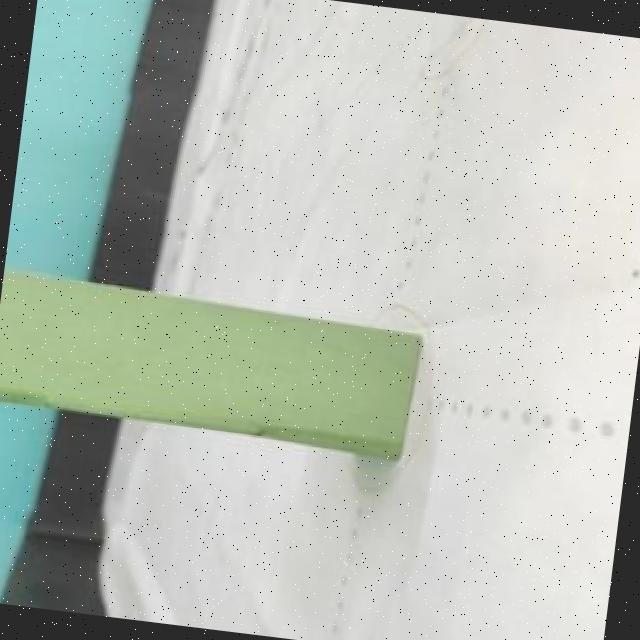greenbox: (0, 266, 423, 465)
